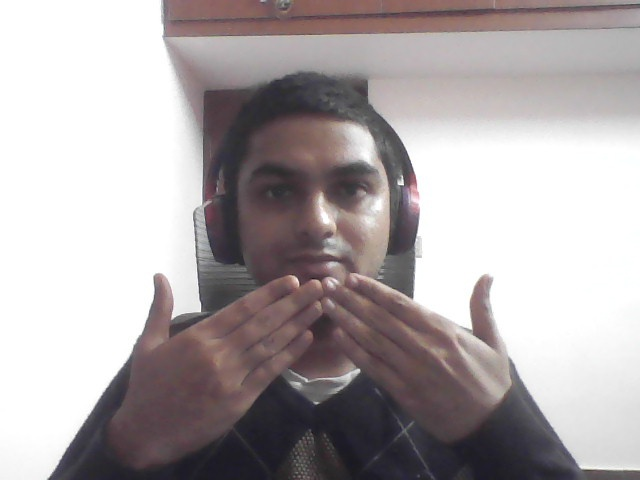Thank You: (85, 254, 539, 460)
